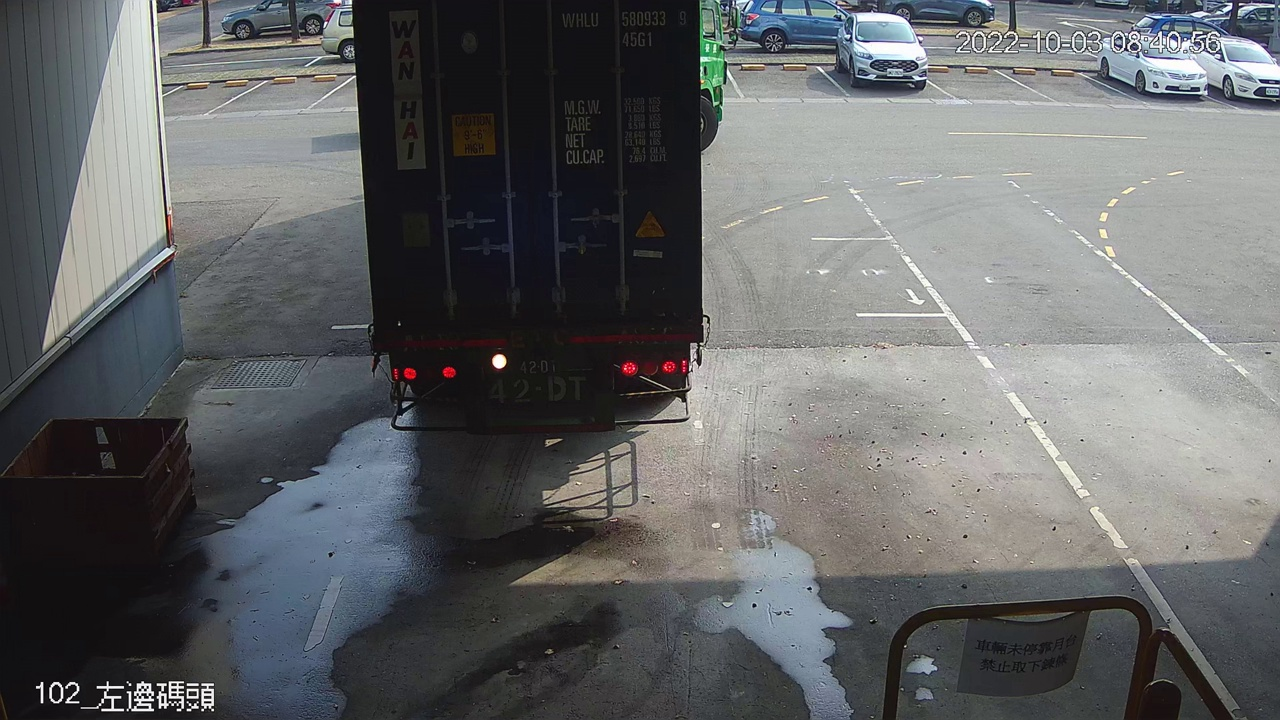container: (556, 4, 694, 54)
